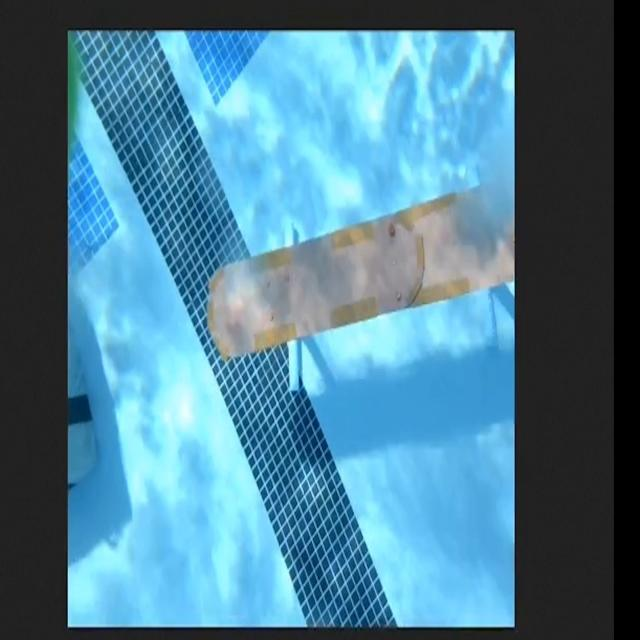Path: (204, 170, 515, 362)
